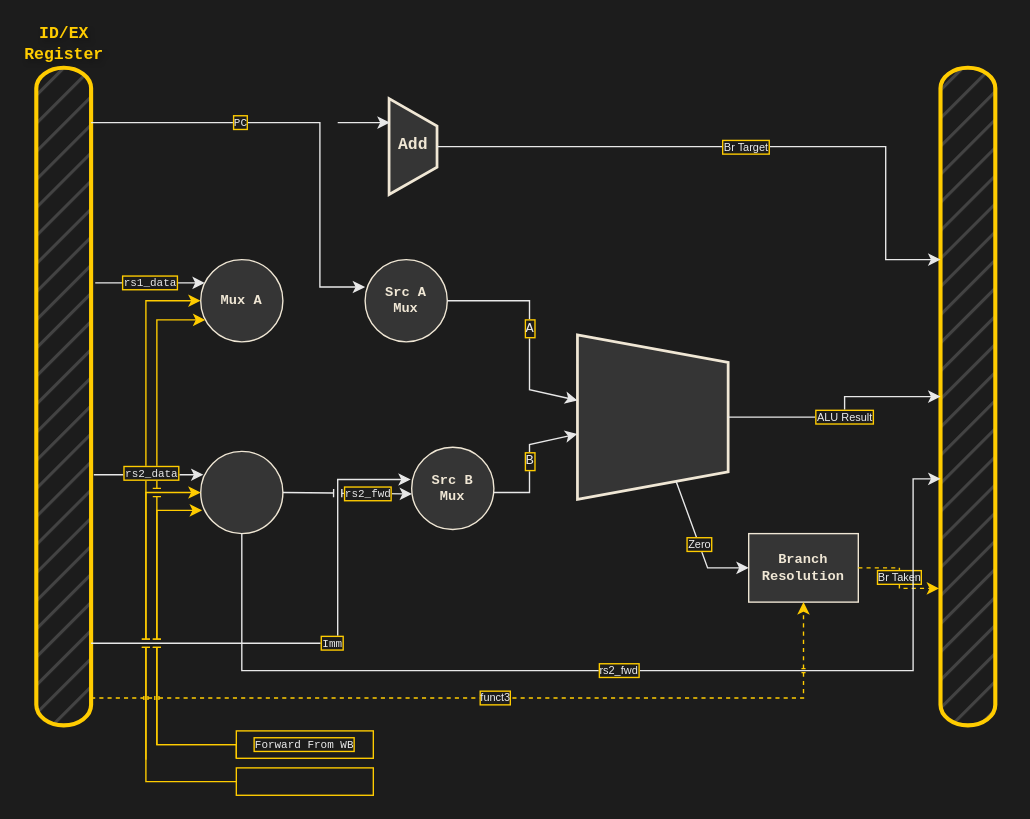
Some shapes in this 1030 by 819 pixel diagram are drawn without their labels. The shapes that lost their labels are listed below. From the top down, each one's centre as x and y in pixels, then its label:
point 652,416: ALU
point 967,396: EX/MEM Register
point 241,492: Mux B
point 304,781: Forward From MEM
